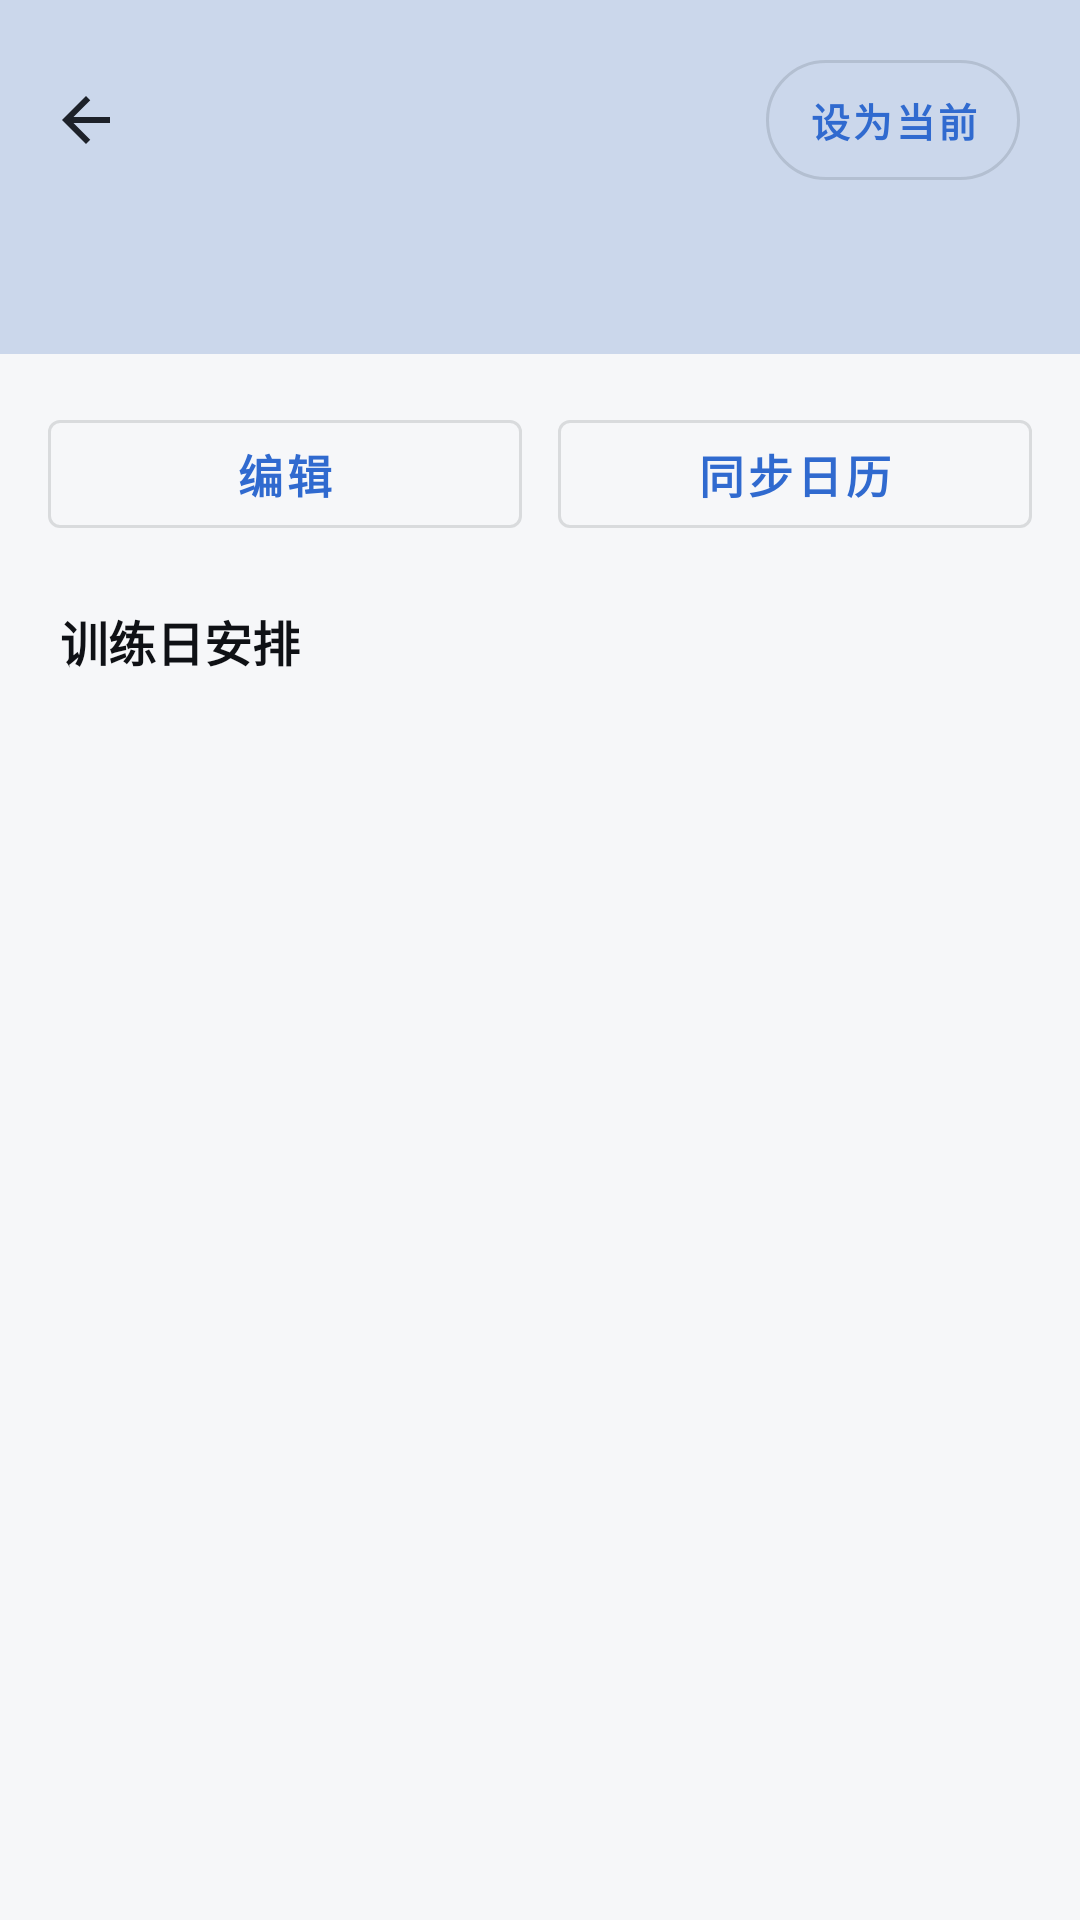

Named icons in this screenshot (1080px x 1920px) and their bounding boxes, [x1=x1, y1=y1, x2=x2, y2=y2]:
返回: [x1=62, y1=96, x2=110, y2=144]
